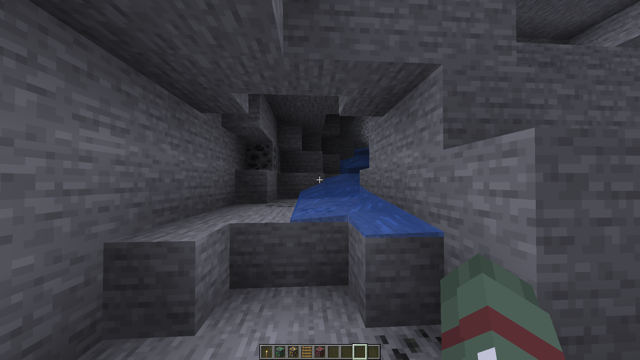coal: (366, 323, 445, 360), (240, 140, 280, 171), (268, 201, 335, 214)
